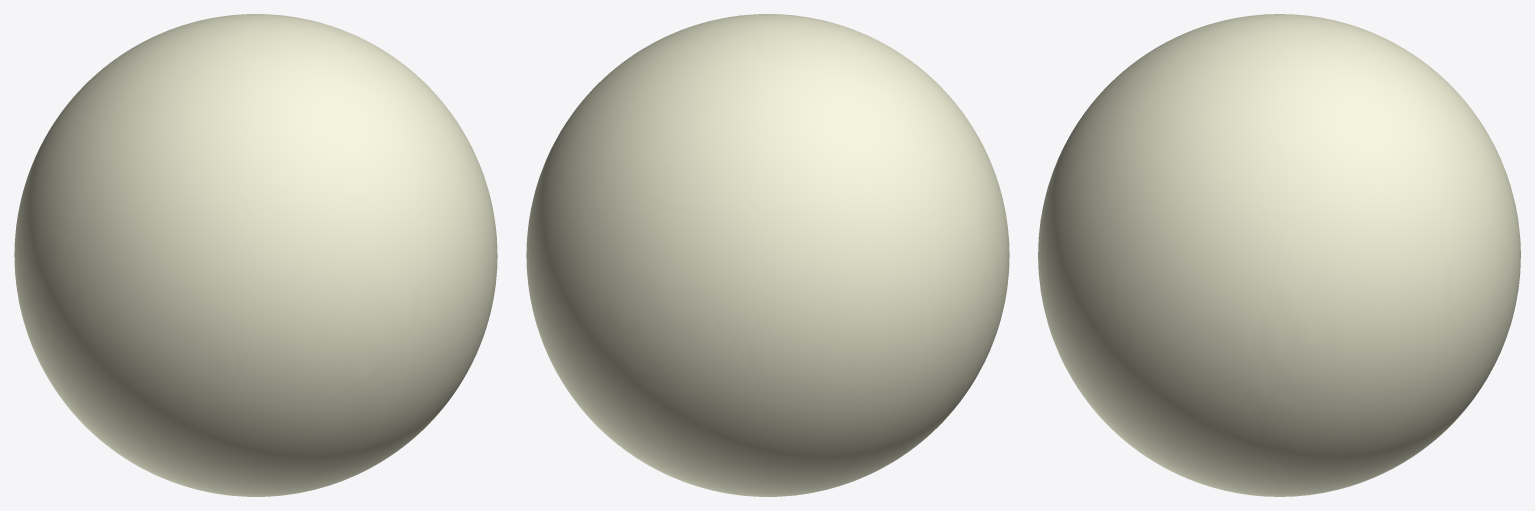
The model's file is ballws.gltf.
3 renders of one model, left to right at view 1: azimuth 30°, elevation 25°; view 2: azimuth 150°, elevation 25°; view 3: azimuth 270°, elevation 25°, orthographic.
Parts seen in each view (by area): view 1: ball; view 2: ball; view 3: ball.
Part boxes in pixels (bbox=[...]): ball: bbox=[14, 14, 497, 496]; ball: bbox=[526, 14, 1009, 496]; ball: bbox=[1038, 14, 1520, 496].
Size of the model in its own units: 200 by 200 by 200.
